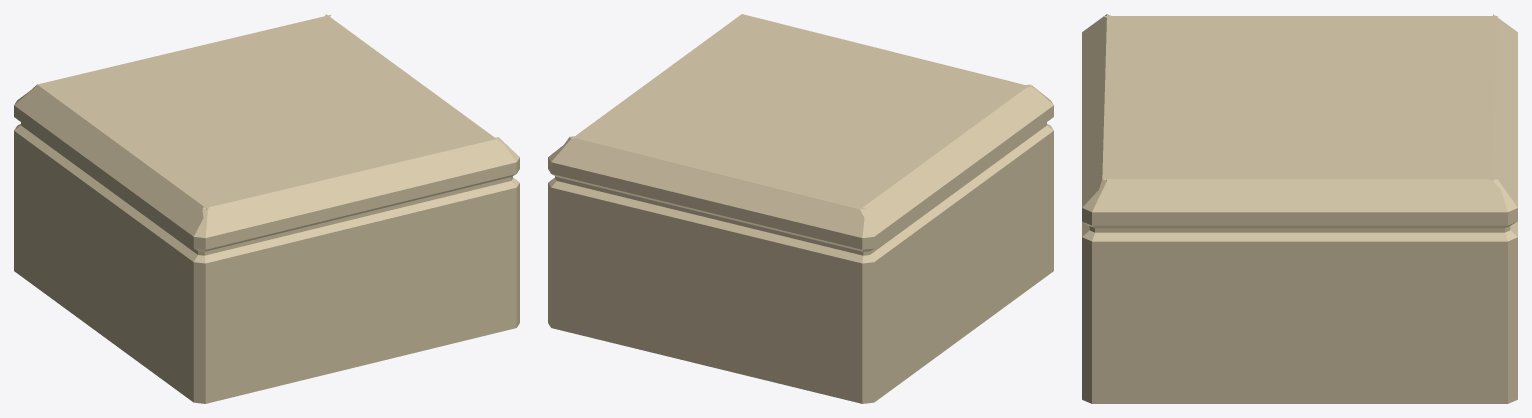
3 renders of one model, left to right at view 1: azimuth 30°, elevation 25°; view 2: azimuth 150°, elevation 25°; view 3: azimuth 270°, elevation 25°, orthographic. The views are drawn at different scales.
Visible parts, largest first — view 1: Mesh_CornerBlock; view 2: Mesh_CornerBlock; view 3: Mesh_CornerBlock.
Boxes of the visible parts, left/top/right/bottom form: Mesh_CornerBlock: left=14, top=14, right=519, bottom=403; Mesh_CornerBlock: left=548, top=14, right=1053, bottom=403; Mesh_CornerBlock: left=1082, top=14, right=1517, bottom=403.
Bounding box in the file's own units: 0.35 × 0.19 × 0.35.
